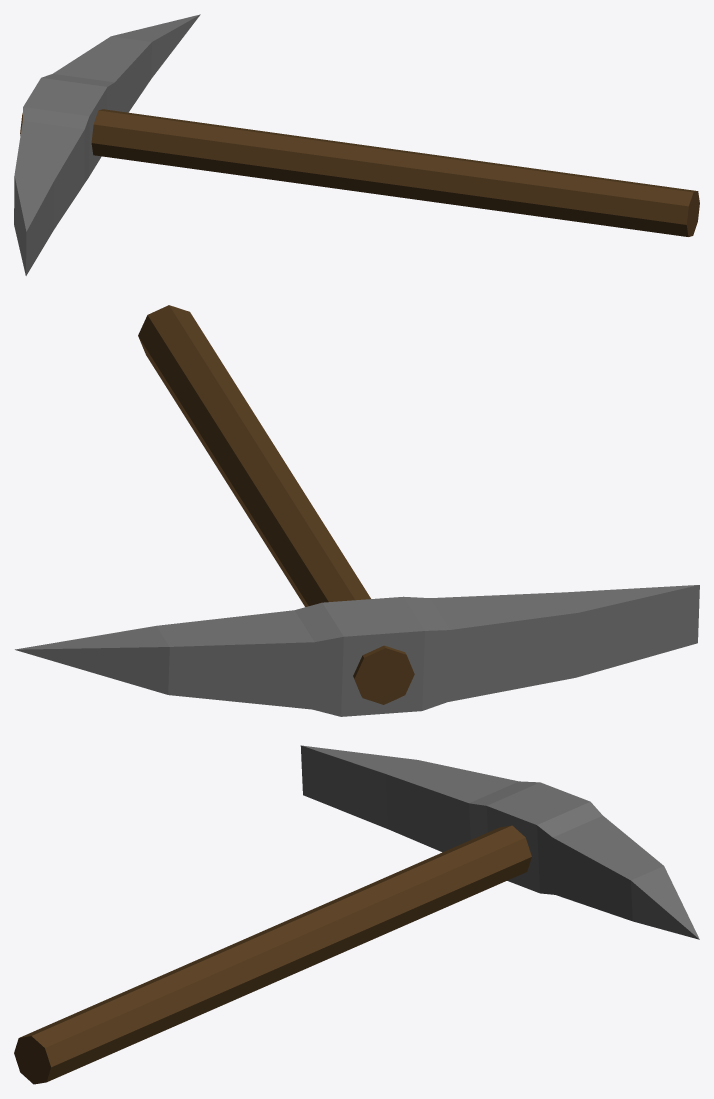
The model's file is Pickaxe(Pickup).fbx.
3 views of the same model, one above another, from view 1: azimuth 30°, elevation 25°; view 2: azimuth 150°, elevation 25°; view 3: azimuth 270°, elevation 25° (orthographic). The views are drawn at different scales.
Visible parts, largest first — view 1: Axe; view 2: Axe; view 3: Axe.
Boxes of the visible parts, left/top/right/bottom form: Axe: left=14, top=14, right=699, bottom=275; Axe: left=15, top=305, right=699, bottom=716; Axe: left=14, top=745, right=699, bottom=1084.
Size of the model in its own units: 46.75 by 5.37 by 45.74.
